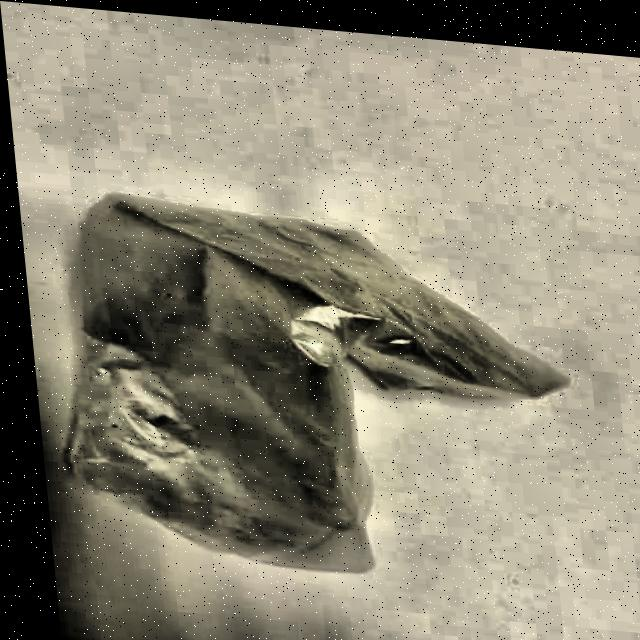trash: (31, 184, 588, 597)
